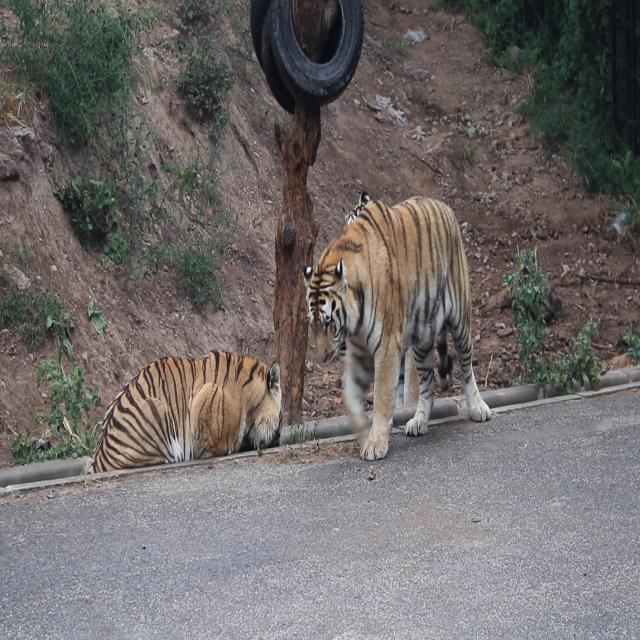Tiger: (299, 171, 497, 474), (70, 321, 291, 483)
